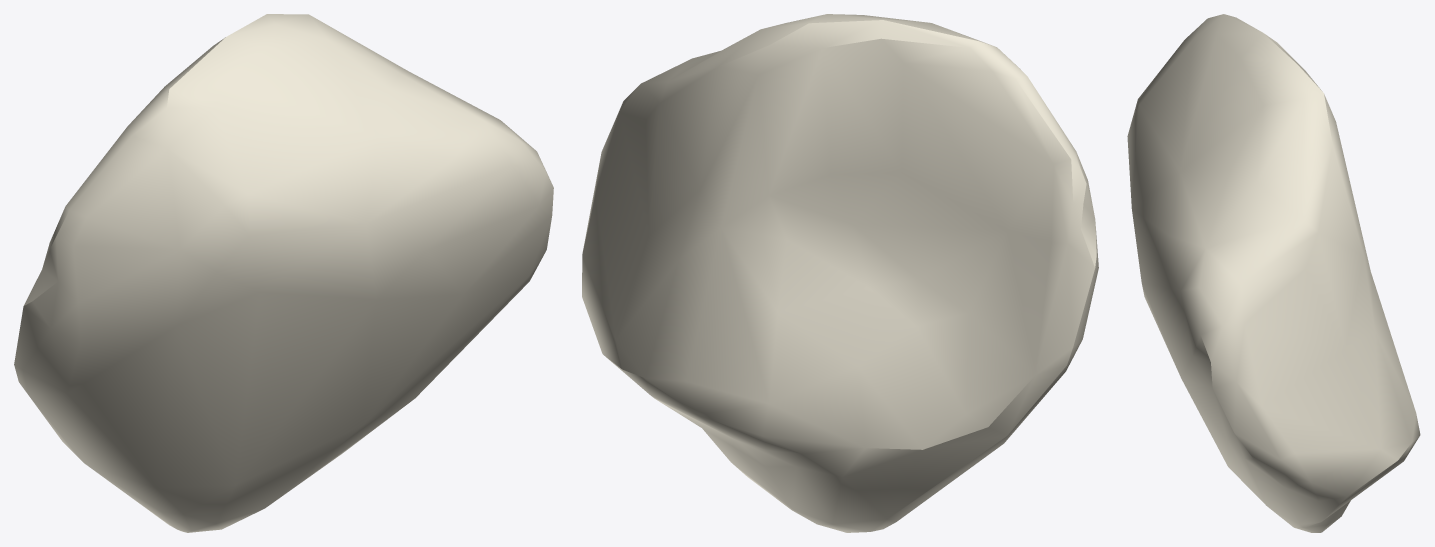
Rendered from fma24486_fj3381.glb.
3 views of the same model, side by side, from view 1: azimuth 30°, elevation 25°; view 2: azimuth 150°, elevation 25°; view 3: azimuth 270°, elevation 25° (orthographic). The views are drawn at different scales.
Parts seen in each view (by area): view 1: FMA24486_FJ3381; view 2: FMA24486_FJ3381; view 3: FMA24486_FJ3381.
Boxes of the visible parts, x1,y1,x2,y2 form: FMA24486_FJ3381: (14, 14, 553, 532); FMA24486_FJ3381: (582, 14, 1098, 532); FMA24486_FJ3381: (1127, 14, 1420, 532).
Size of the model in its own units: 0.0417 by 0.0393 by 0.0217.
